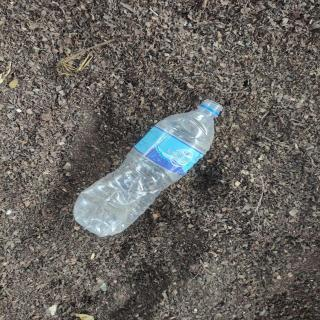Plastic-bottle: (70, 98, 228, 242)
